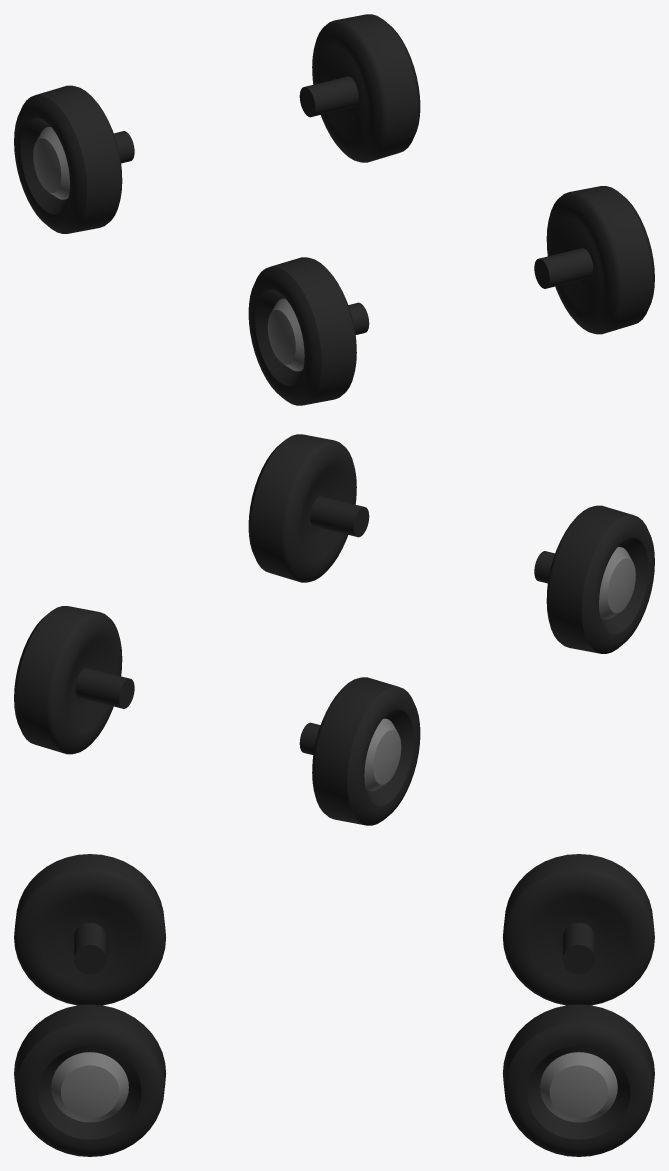
File: wheels.glb
3 renders of one model, top to bottom at view 1: azimuth 30°, elevation 25°; view 2: azimuth 150°, elevation 25°; view 3: azimuth 270°, elevation 25°, orthographic. The views are drawn at different scales.
Parts seen in each view (by area): view 1: front_right_wheel, back_left_wheel, back_right_wheel, front_left_wheel; view 2: front_left_wheel, back_right_wheel, front_right_wheel, back_left_wheel; view 3: front_left_wheel, back_left_wheel, front_right_wheel, back_right_wheel.
Part boxes in pixels (left/top/right/bottom): front_right_wheel: left=248, top=257, right=369, bottom=405; back_left_wheel: left=299, top=14, right=420, bottom=162; back_right_wheel: left=14, top=85, right=134, bottom=233; front_left_wheel: left=534, top=186, right=654, bottom=334; front_left_wheel: left=248, top=434, right=369, bottom=582; back_right_wheel: left=299, top=677, right=420, bottom=825; front_right_wheel: left=534, top=505, right=654, bottom=653; back_left_wheel: left=14, top=606, right=134, bottom=754; front_left_wheel: left=14, top=1004, right=166, bottom=1156; back_left_wheel: left=502, top=1004, right=654, bottom=1156; front_right_wheel: left=14, top=854, right=166, bottom=1005; back_right_wheel: left=502, top=854, right=654, bottom=1005.
Bounding box in the file's own units: 1.6 × 0.5812 × 2.45.
1 material, 1 textured.
